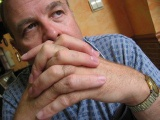male: (10, 9, 89, 61)
